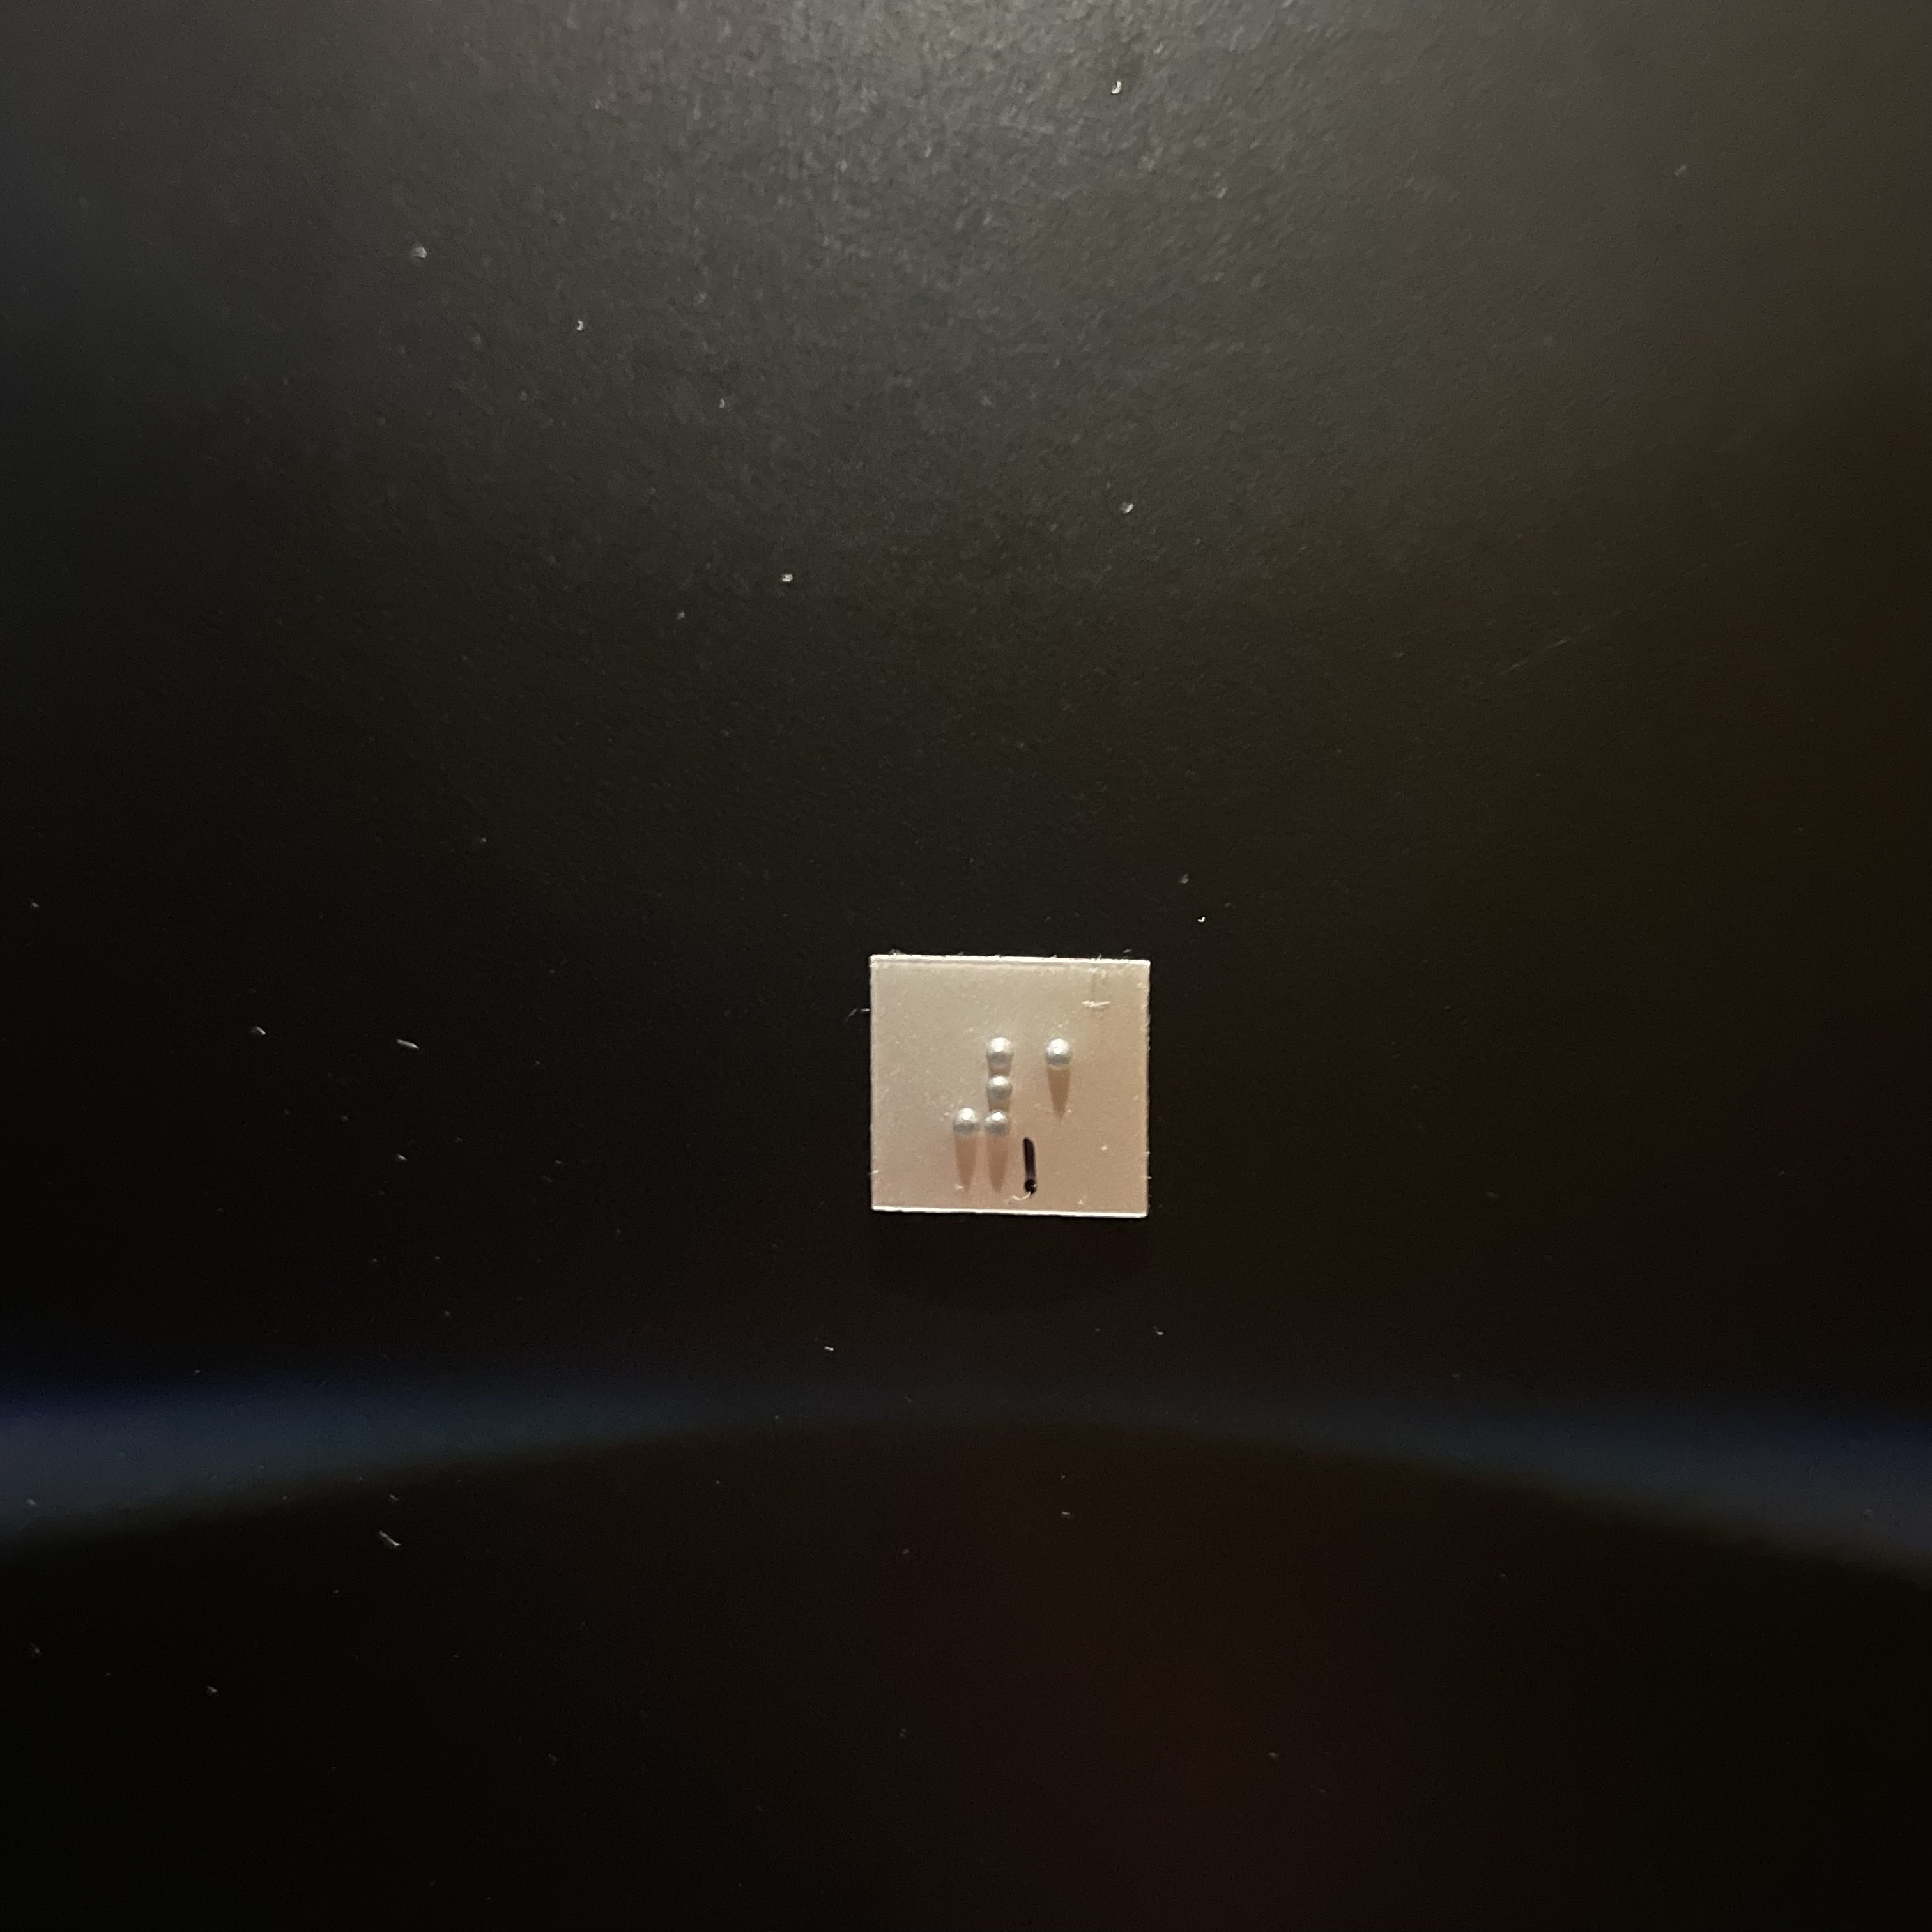#: (952, 1033, 1023, 1146)
a: (1038, 1033, 1108, 1150)
